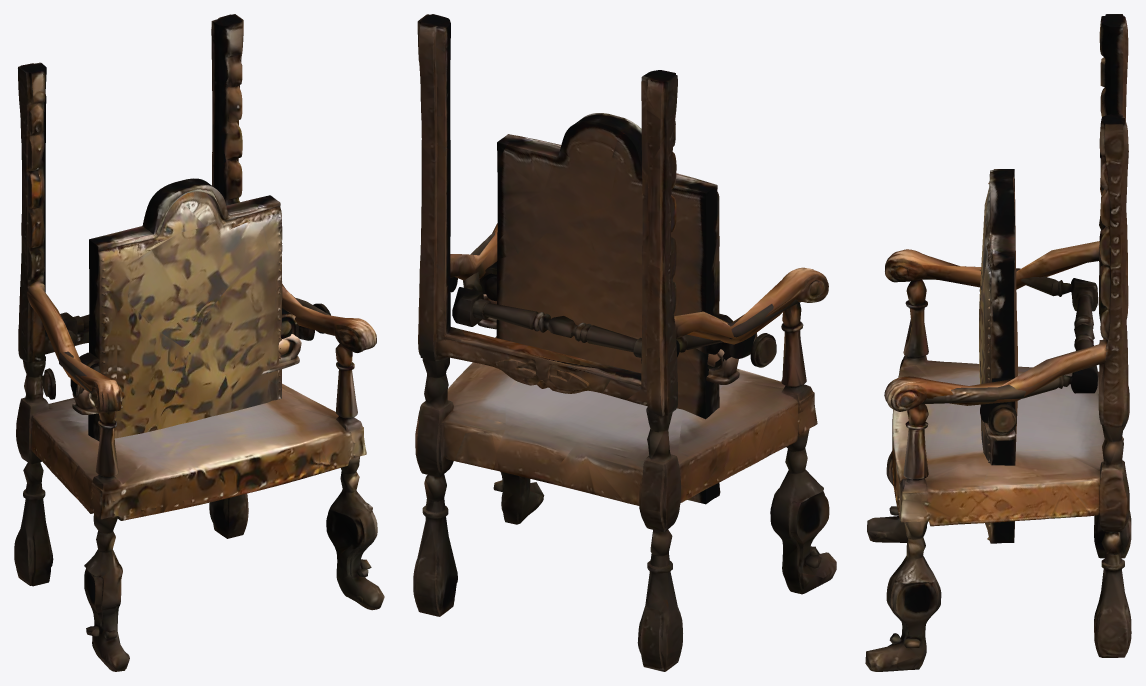
3 renders of one model, left to right at view 1: azimuth 30°, elevation 25°; view 2: azimuth 150°, elevation 25°; view 3: azimuth 270°, elevation 25°, orthographic. The views are drawn at different scales.
Visible parts, largest first — view 1: root.0, root.1, root.3, root.2, root.4; view 2: root.0, root.1, root.4, root.3, root.2; view 3: root.0, root.1, root.4, root.3.
Part boxes in pixels (x1=…): root.0: x1=14, y1=14, x2=384, y2=671; root.1: x1=88, y1=178, x2=282, y2=441; root.3: x1=42, y1=303, x2=330, y2=399; root.2: x1=72, y1=334, x2=301, y2=414; root.4: x1=59, y1=298, x2=329, y2=393; root.0: x1=413, y1=14, x2=836, y2=671; root.1: x1=496, y1=113, x2=720, y2=504; root.4: x1=452, y1=231, x2=800, y2=363; root.3: x1=450, y1=261, x2=776, y2=368; root.2: x1=477, y1=294, x2=739, y2=384; root.0: x1=865, y1=14, x2=1131, y2=671; root.1: x1=979, y1=169, x2=1017, y2=543; root.4: x1=921, y1=266, x2=1098, y2=404; root.3: x1=979, y1=289, x2=1016, y2=434.
Bounding box in the file's own units: 7181 × 12384 × 5592.
1 material, 1 textured.
